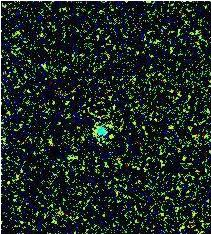star: (94, 120, 124, 150)
